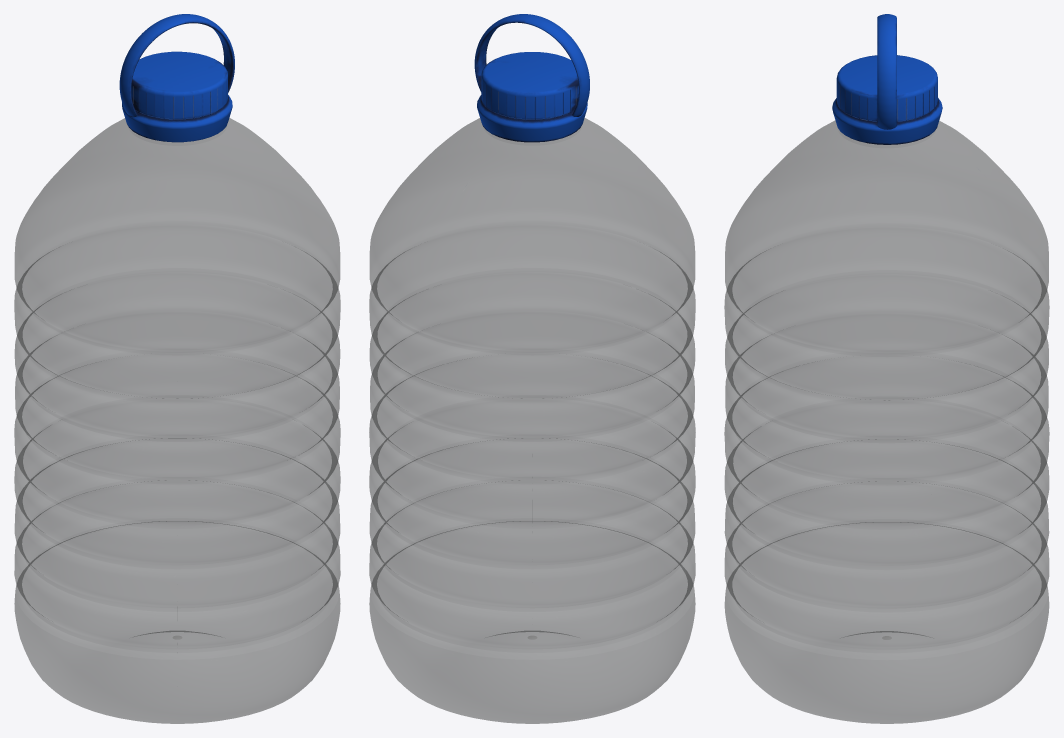
File: gallon_water_bottle.glb
The picture shows the model from 3 angles, left to right: view 1: azimuth 30°, elevation 25°; view 2: azimuth 150°, elevation 25°; view 3: azimuth 270°, elevation 25°; orthographic projection.
Visible parts, largest first — view 1: Cylinder; view 2: Cylinder; view 3: Cylinder.
Part boxes in pixels (x1,y1,x2,y2): Cylinder: (14, 14, 340, 723); Cylinder: (369, 14, 695, 723); Cylinder: (724, 14, 1049, 723).
Bounding box in the file's own units: 24.02 × 53.31 × 24.03.
Materials: 1 (1 with a texture image).
